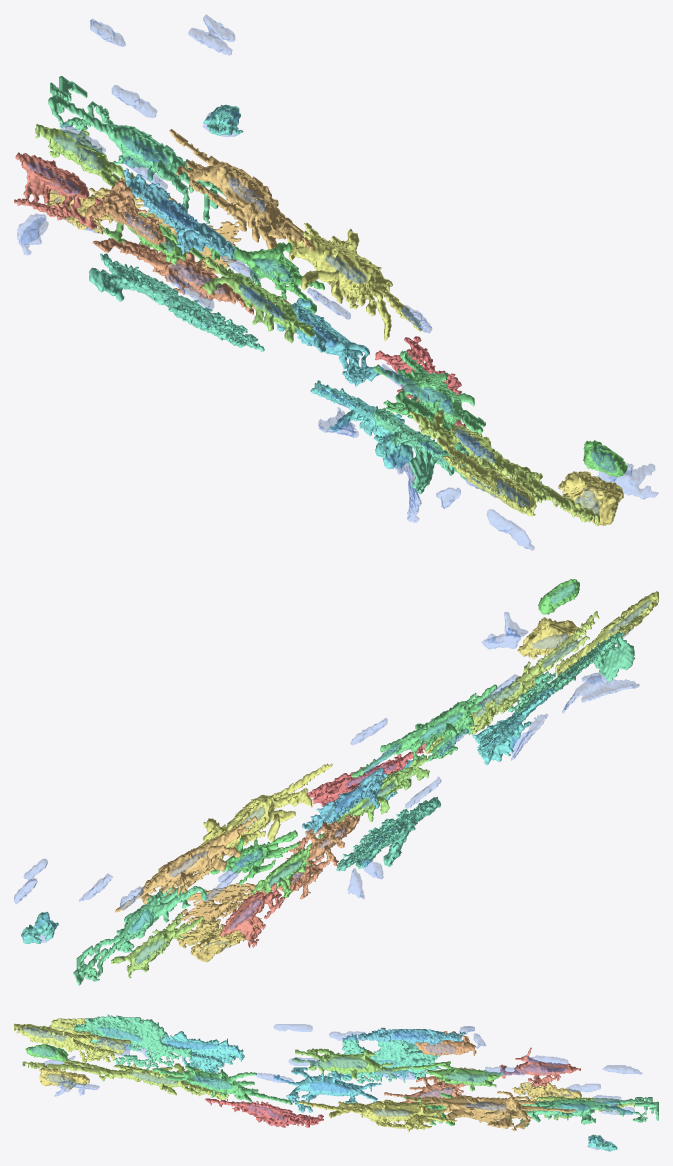
3 renders of one model, top to bottom at view 1: azimuth 30°, elevation 25°; view 2: azimuth 150°, elevation 25°; view 3: azimuth 270°, elevation 25°, orthographic. The views are drawn at different scales.
Parts seen in each view (by area): view 1: osteocyte_13, osteocyte_8, osteocyte_7, osteocyte_14, osteocyte_19, osteocyte_16, osteocyte_17, osteocyte_46, osteocyte_6, osteocyte_27, osteocyte_10, osteocyte_26 (+14 smaller); view 2: osteocyte_13, osteocyte_19, osteocyte_8, osteocyte_7, osteocyte_16, osteocyte_41, osteocyte_14, osteocyte_26, osteocyte_17, osteocyte_2, osteocyte_3, osteocyte_46 (+11 smaller); view 3: osteocyte_41, osteocyte_13, osteocyte_43, osteocyte_8, osteocyte_14, osteocyte_16, osteocyte_7, osteocyte_10, osteocyte_19, osteocyte_27, osteocyte_26, osteocyte_1 (+35 smaller).
Boxes of the visible parts, bbox=[...] form: osteocyte_13: bbox=[152, 129, 314, 273]; osteocyte_8: bbox=[287, 222, 422, 341]; osteocyte_7: bbox=[48, 76, 224, 224]; osteocyte_14: bbox=[89, 253, 264, 351]; osteocyte_19: bbox=[373, 350, 485, 433]; osteocyte_16: bbox=[409, 409, 599, 525]; osteocyte_17: bbox=[14, 152, 101, 229]; osteocyte_46: bbox=[123, 168, 234, 259]; osteocyte_6: bbox=[92, 237, 288, 314]; osteocyte_27: bbox=[202, 256, 314, 343]; osteocyte_10: bbox=[265, 298, 379, 386]; osteocyte_26: bbox=[310, 380, 413, 469]; osteocyte_13: bbox=[115, 816, 258, 923]; osteocyte_19: bbox=[351, 684, 497, 777]; osteocyte_8: bbox=[193, 763, 332, 858]; osteocyte_7: bbox=[73, 885, 207, 985]; osteocyte_16: bbox=[424, 611, 599, 753]; osteocyte_41: bbox=[508, 629, 635, 713]; osteocyte_14: bbox=[336, 796, 440, 871]; osteocyte_26: bbox=[472, 686, 555, 765]; osteocyte_17: bbox=[220, 883, 285, 947]; osteocyte_2: bbox=[209, 830, 298, 885]; osteocyte_3: bbox=[176, 917, 263, 962]; osteocyte_46: bbox=[306, 767, 387, 833]; osteocyte_41: bbox=[74, 1014, 191, 1069]; osteocyte_13: bbox=[405, 1091, 576, 1131]; osteocyte_43: bbox=[14, 1018, 130, 1062]; osteocyte_8: bbox=[297, 1099, 456, 1131]; osteocyte_14: bbox=[327, 1033, 440, 1083]; osteocyte_16: bbox=[22, 1059, 229, 1100]; osteocyte_7: bbox=[510, 1097, 658, 1126]; osteocyte_10: bbox=[273, 1067, 381, 1112]; osteocyte_19: bbox=[153, 1065, 292, 1105]; osteocyte_27: bbox=[292, 1048, 409, 1079]; osteocyte_26: bbox=[160, 1031, 244, 1092]; osteocyte_1: bbox=[205, 1098, 323, 1127].
Size of the model in its own units: 79.44 by 24.55 by 247.
